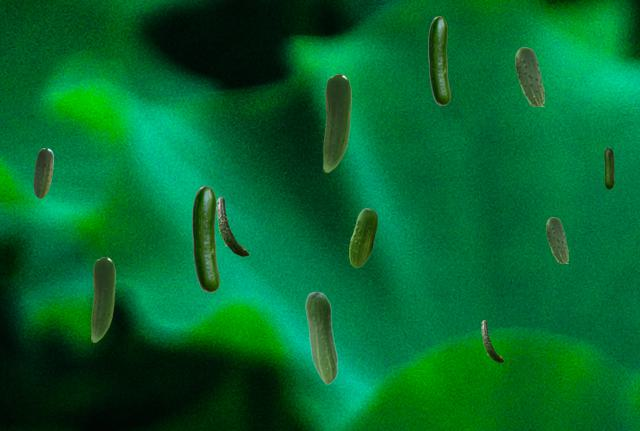cucumber: (305, 291, 337, 383), (192, 186, 218, 291), (323, 74, 350, 171), (91, 257, 114, 341), (216, 197, 248, 255), (428, 16, 449, 104), (515, 47, 543, 105), (349, 208, 376, 266), (546, 217, 567, 262), (33, 148, 52, 197), (481, 320, 503, 361), (604, 147, 613, 188)
